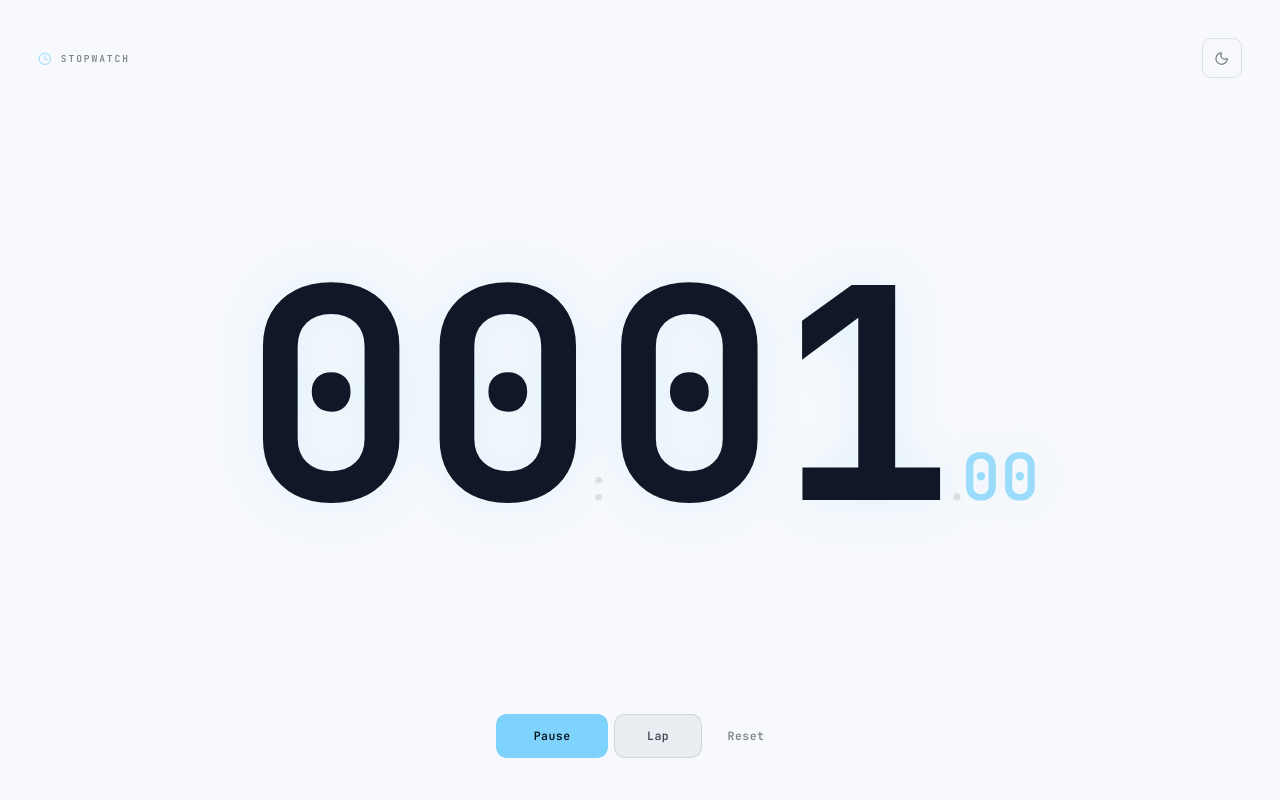
Stopwatch Component › 5. Records a lap and renders it.
Click the button "Lap". click: (658, 736)
box: [614,714,702,758]
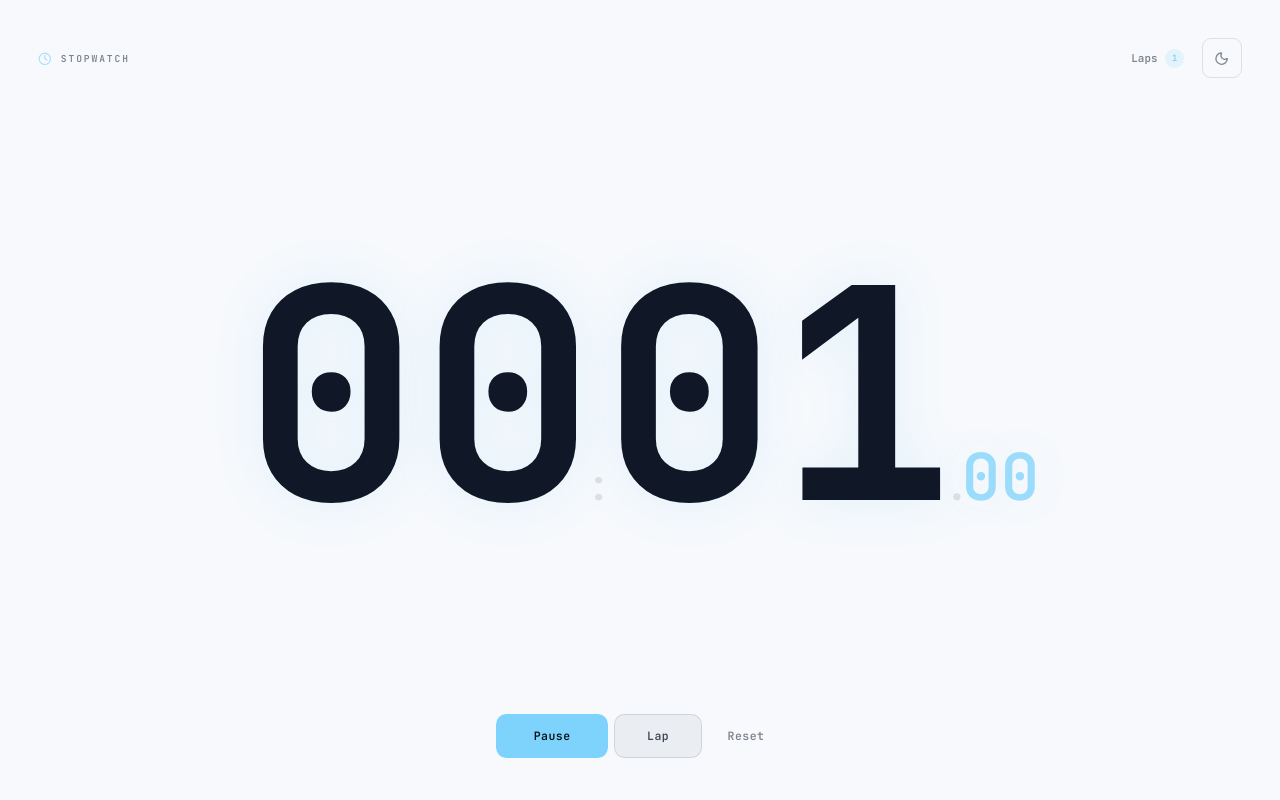
Click the button "Laps 1". click: (1158, 58)
box: [1119,38,1196,78]
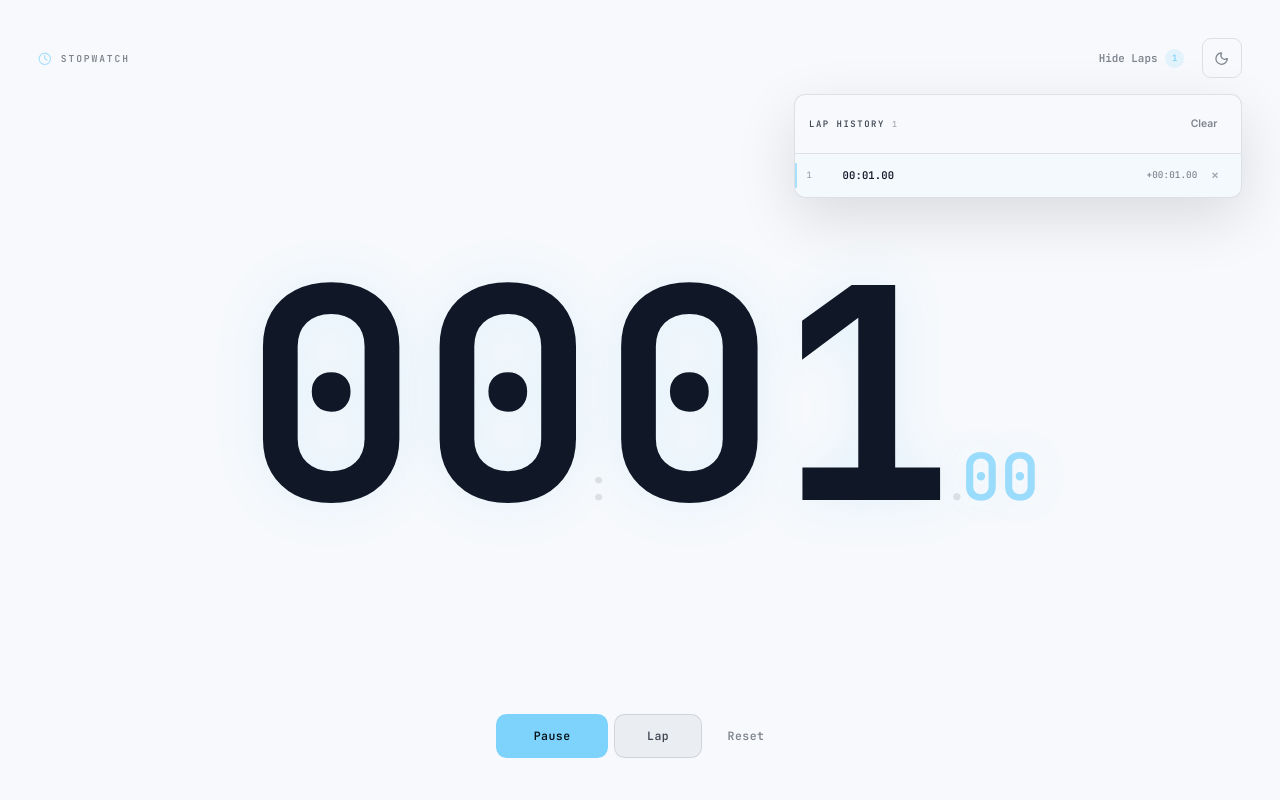
Result: the list item is shown at [795,154,1241,197]
Result: the list item shows "1" at [807,169,812,181]
